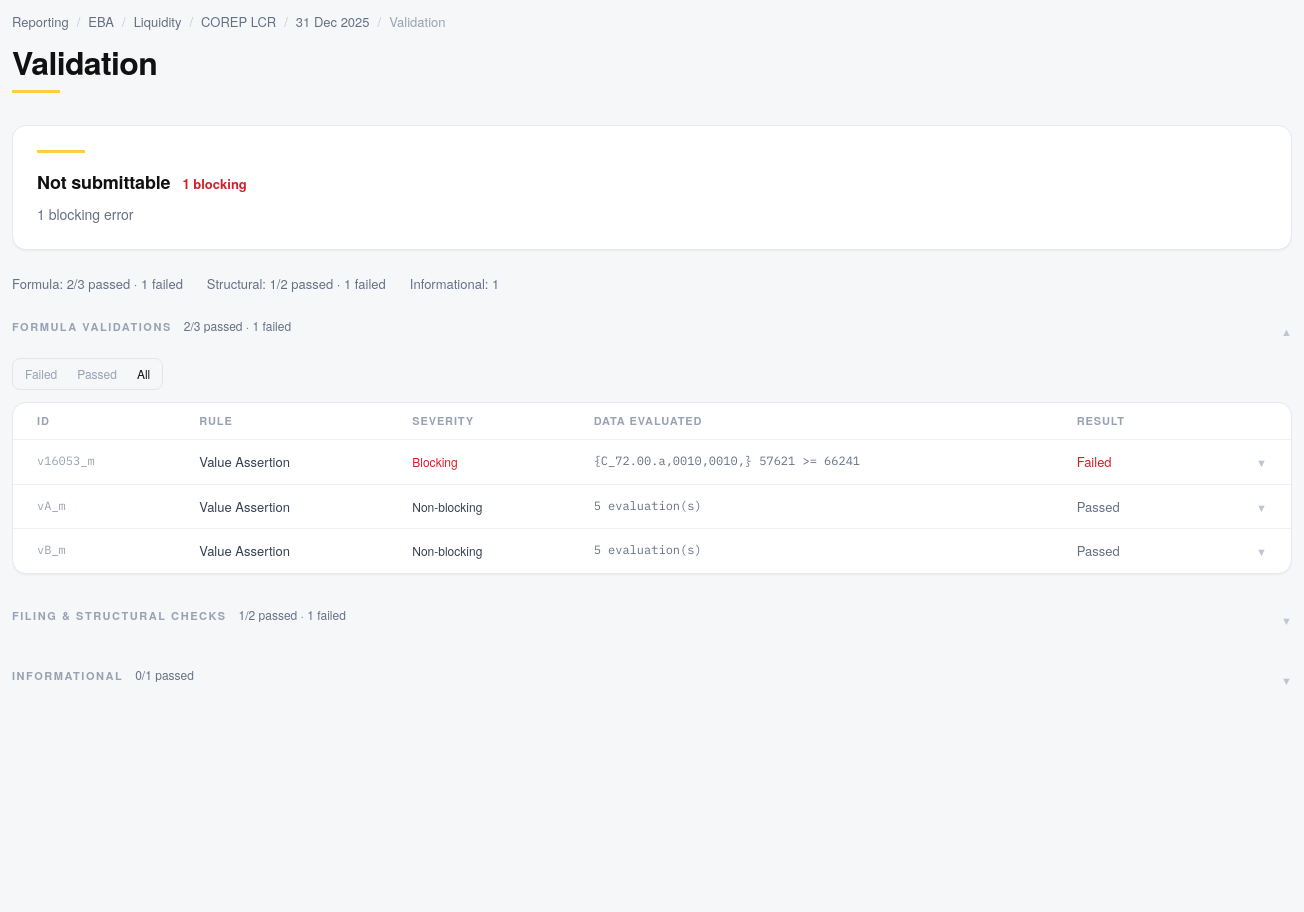
Scenario: RunValidation — sections by family › opens formula by default and collapses structural
The width and height of the screenshot is (1304, 912).
Check: the text "v16053_m" is shown, box [13,440,175,484]
Check: the text "FR 1.7.1" is not shown
Click the button "Filing & structural checks 1/2 passed · 1 failed ▼" at (119, 615), box [12,606,1292,634]
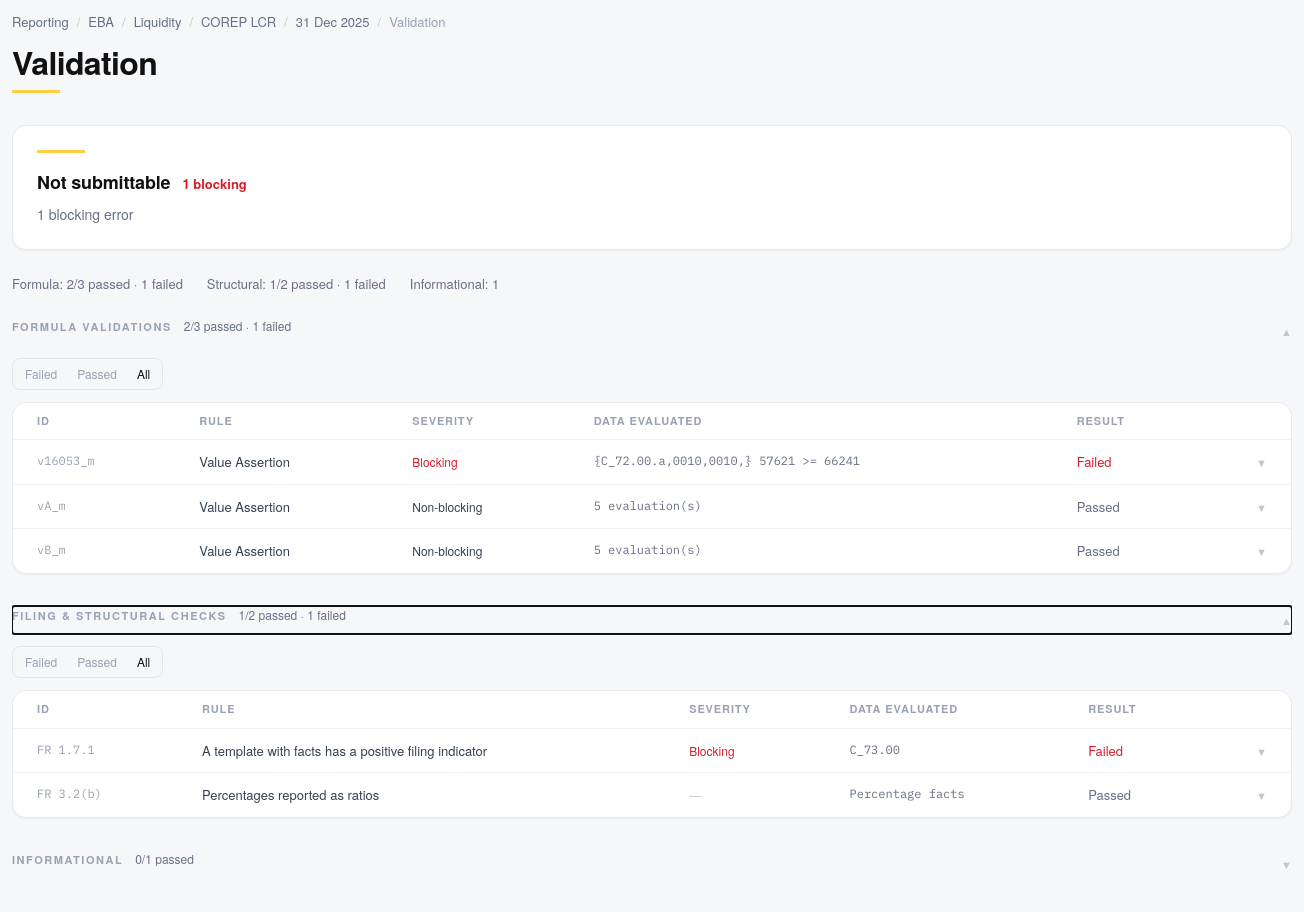
Check: the text "FR 1.7.1" is shown, box [13,728,178,772]
